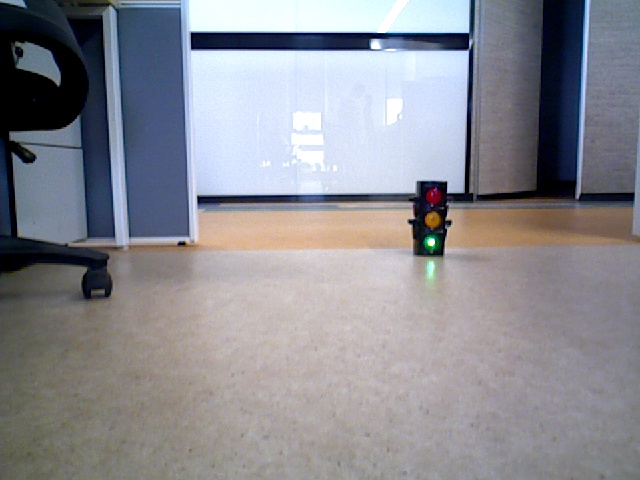green: (414, 181, 445, 253)
